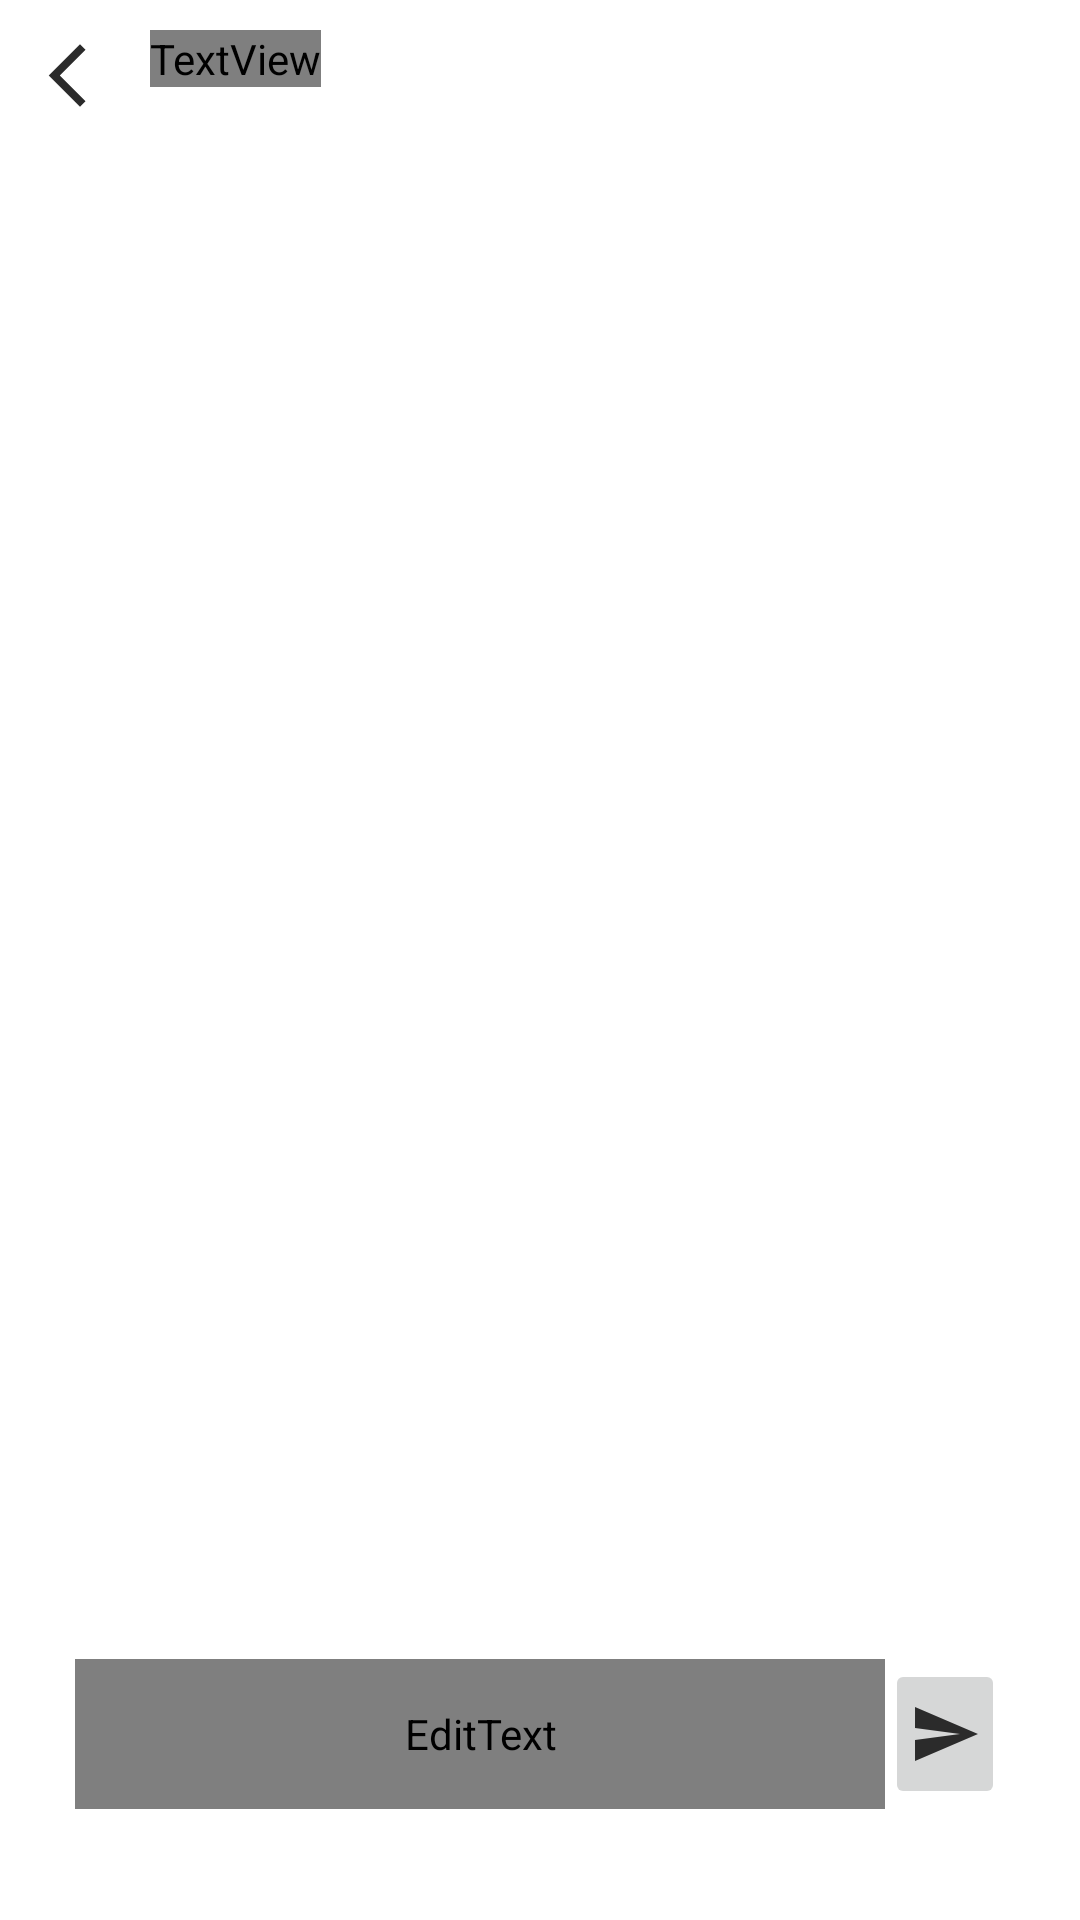

Named icons in this screenshot (1080px×1920px) and their centers, (x,y):
arrow back: (67,75)
send: (945,1734)
